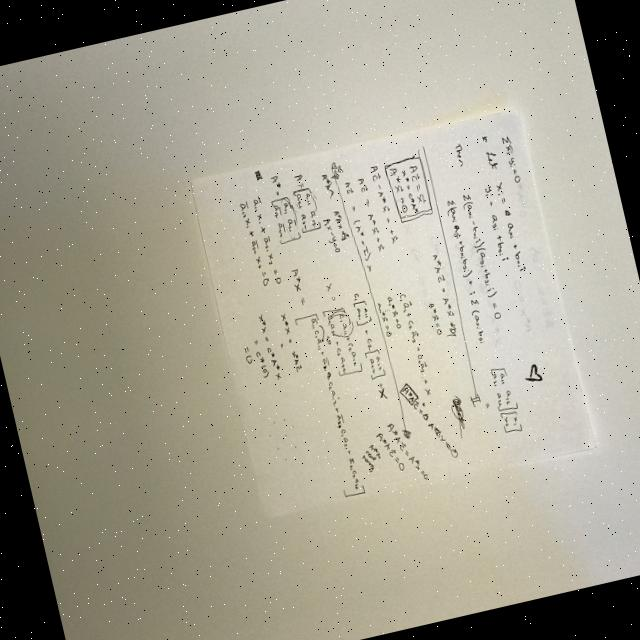paper: (186, 102, 598, 524)
